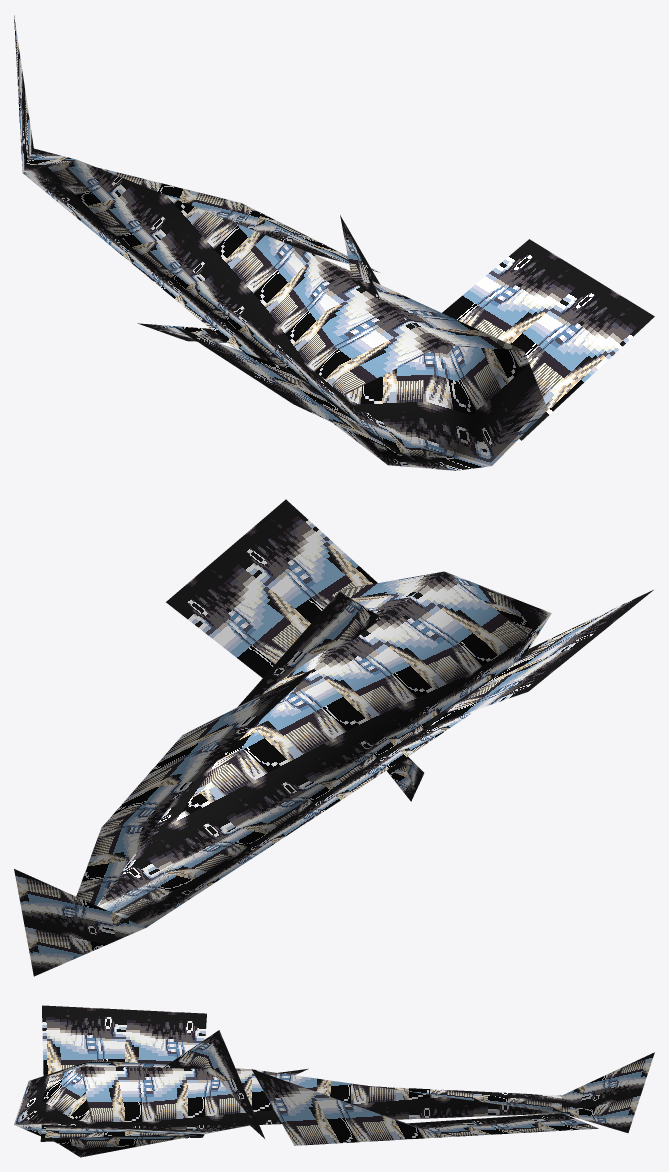
File: 4794fish04_r.gltf
3 renders of one model, top to bottom at view 1: azimuth 30°, elevation 25°; view 2: azimuth 150°, elevation 25°; view 3: azimuth 270°, elevation 25°, orthographic. The views are drawn at different scales.
Parts seen in each view (by area): view 1: 4794fish04_r; view 2: 4794fish04_r; view 3: 4794fish04_r.
Boxes of the visible parts, left/top/right/bottom form: 4794fish04_r: left=14, top=15, right=654, bottom=470; 4794fish04_r: left=14, top=499, right=653, bottom=976; 4794fish04_r: left=14, top=1005, right=654, bottom=1157.
Bounding box in the file's own units: 0.4495 × 0.2046 × 1.02.
Materials: 1 (1 with a texture image).
